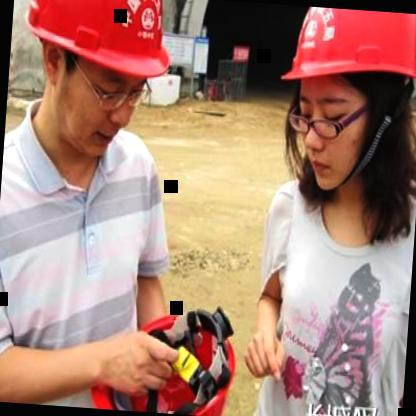helmet: (5, 0, 171, 191), (268, 4, 416, 200)
